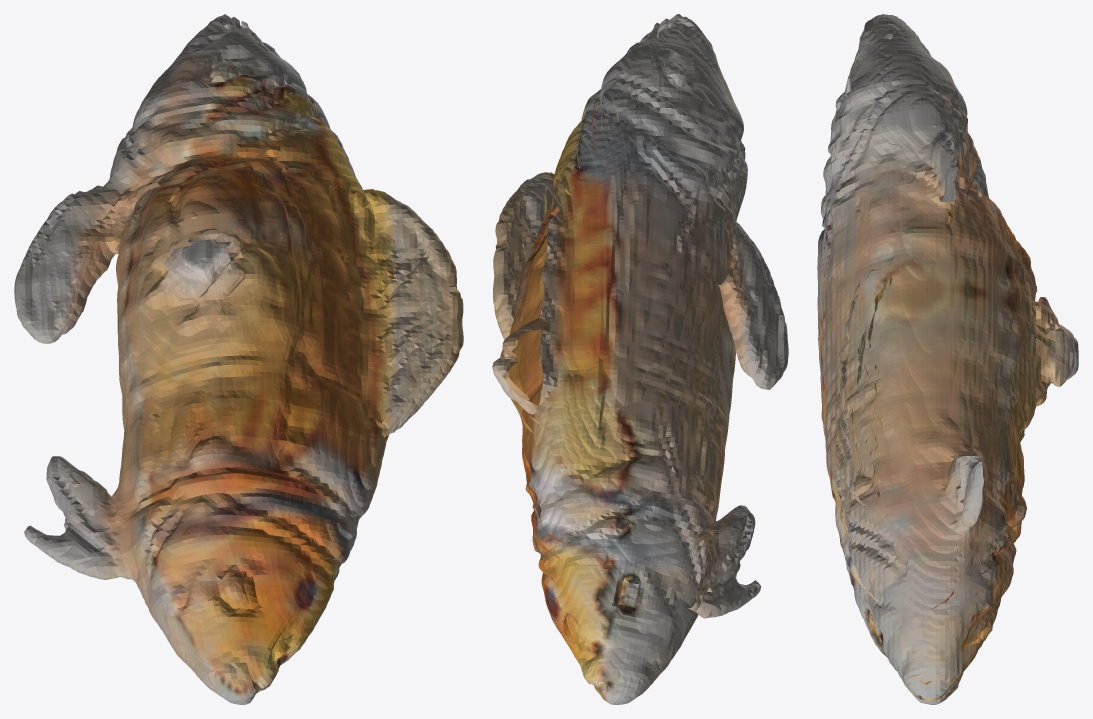
Rendered from clownfish.glb.
3 renders of one model, left to right at view 1: azimuth 30°, elevation 25°; view 2: azimuth 150°, elevation 25°; view 3: azimuth 270°, elevation 25°, orthographic. The views are drawn at different scales.
Visible parts, largest first — view 1: world; view 2: world; view 3: world.
Part boxes in pixels (x1=…): world: x1=14, y1=14, x2=463, y2=704; world: x1=492, y1=14, x2=788, y2=704; world: x1=817, y1=14, x2=1078, y2=704.
Bounding box in the file's own units: 0.5816 × 1.06 × 0.3724.
